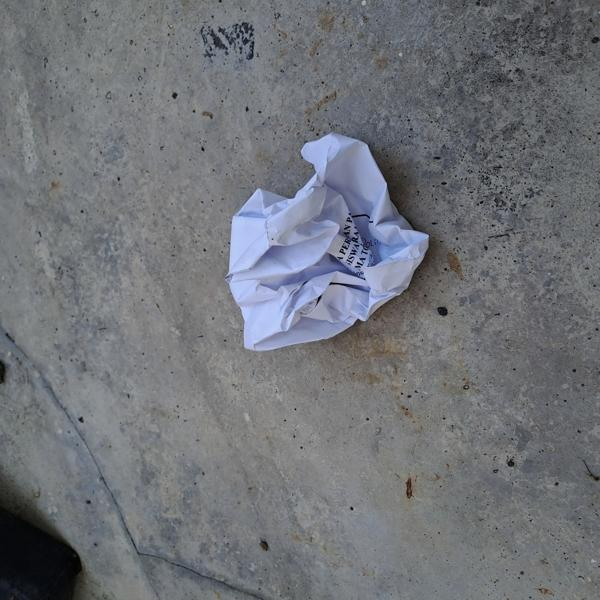Organik: (206, 107, 447, 367)
